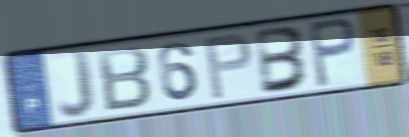6: (156, 41, 201, 104)
B: (254, 24, 311, 98), (95, 44, 154, 115)
J: (55, 47, 97, 121)
P: (306, 15, 359, 90), (202, 30, 255, 102)
